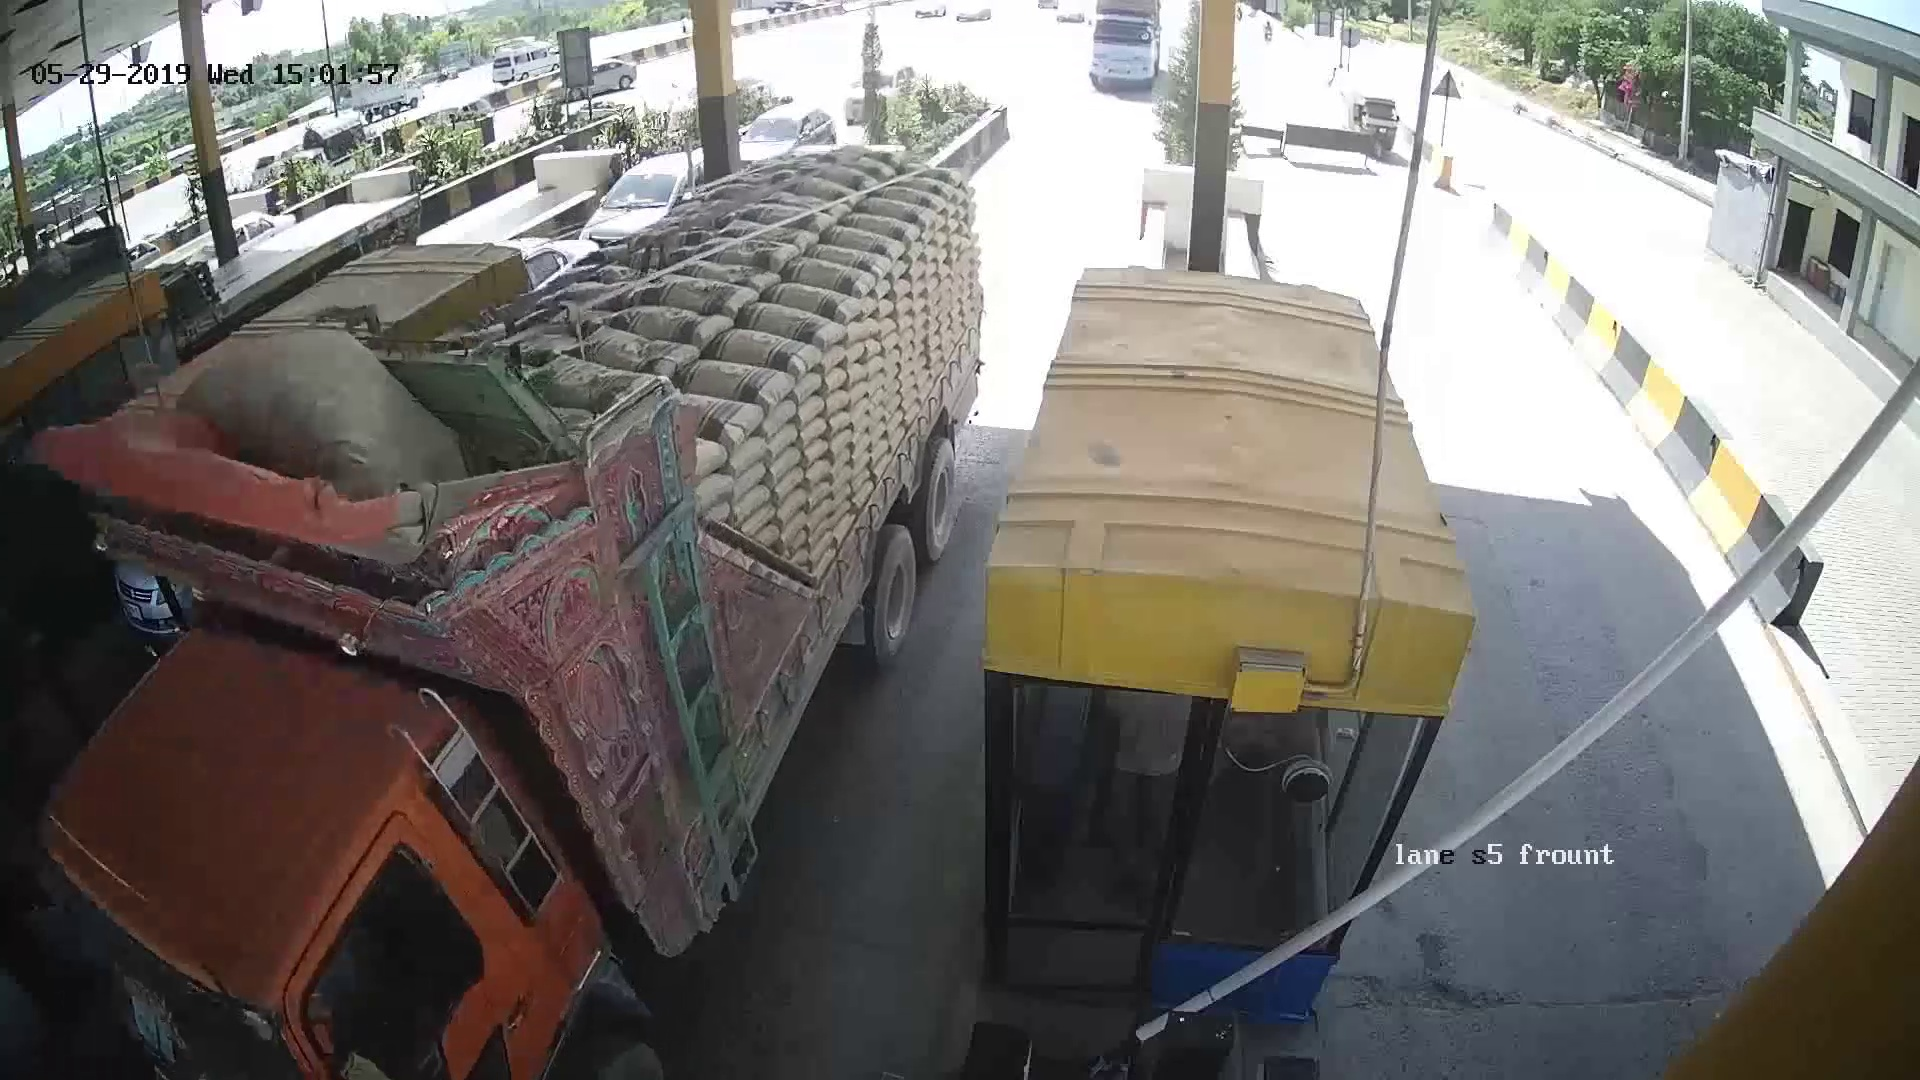truck: (393, 261, 951, 866)
